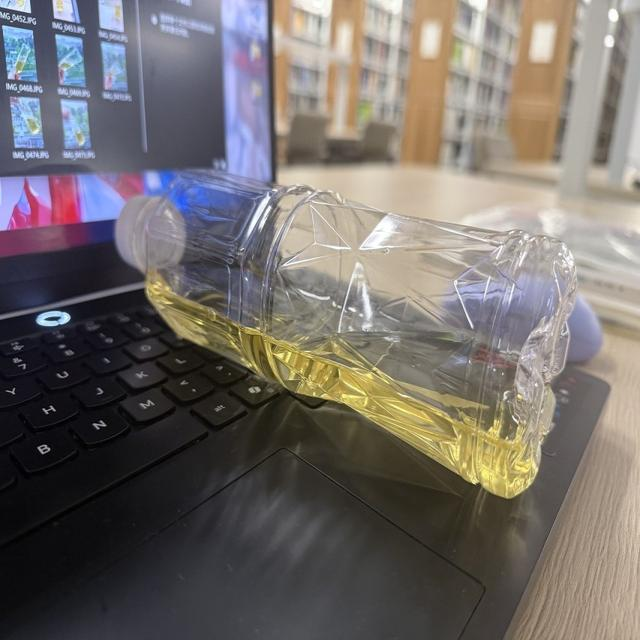low: (117, 170, 575, 496)
